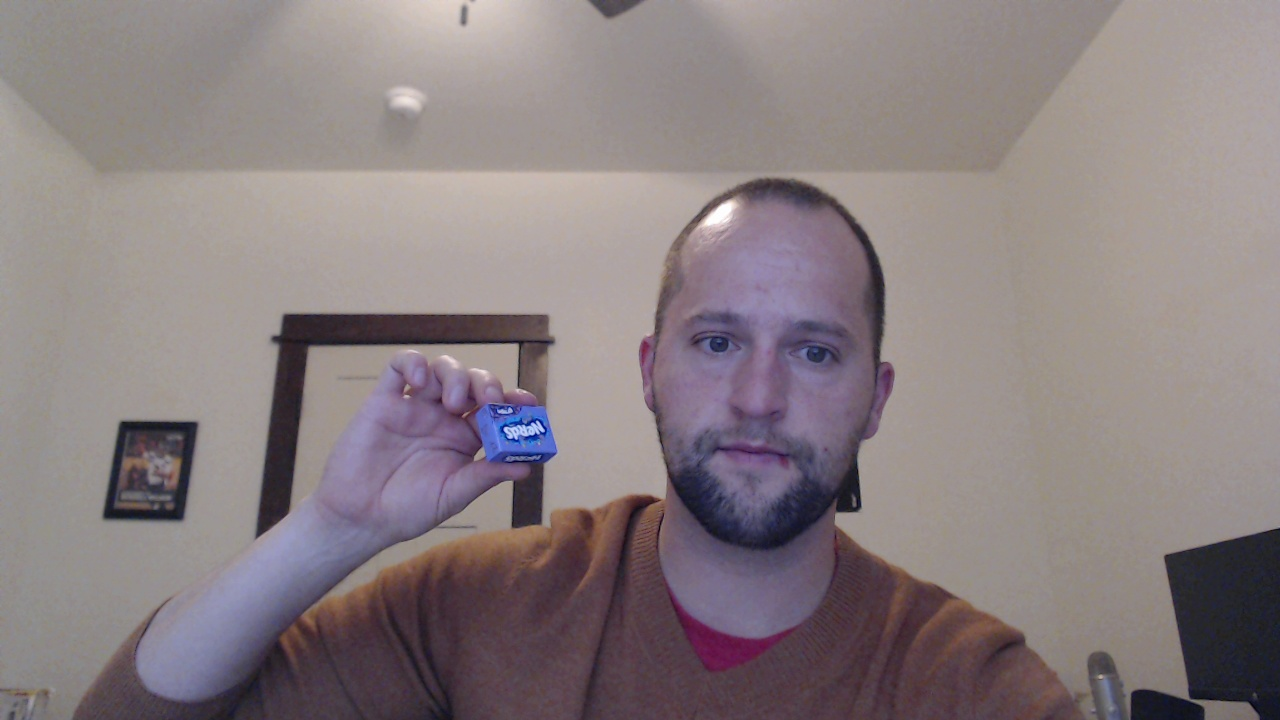nerds: (467, 385, 566, 478)
